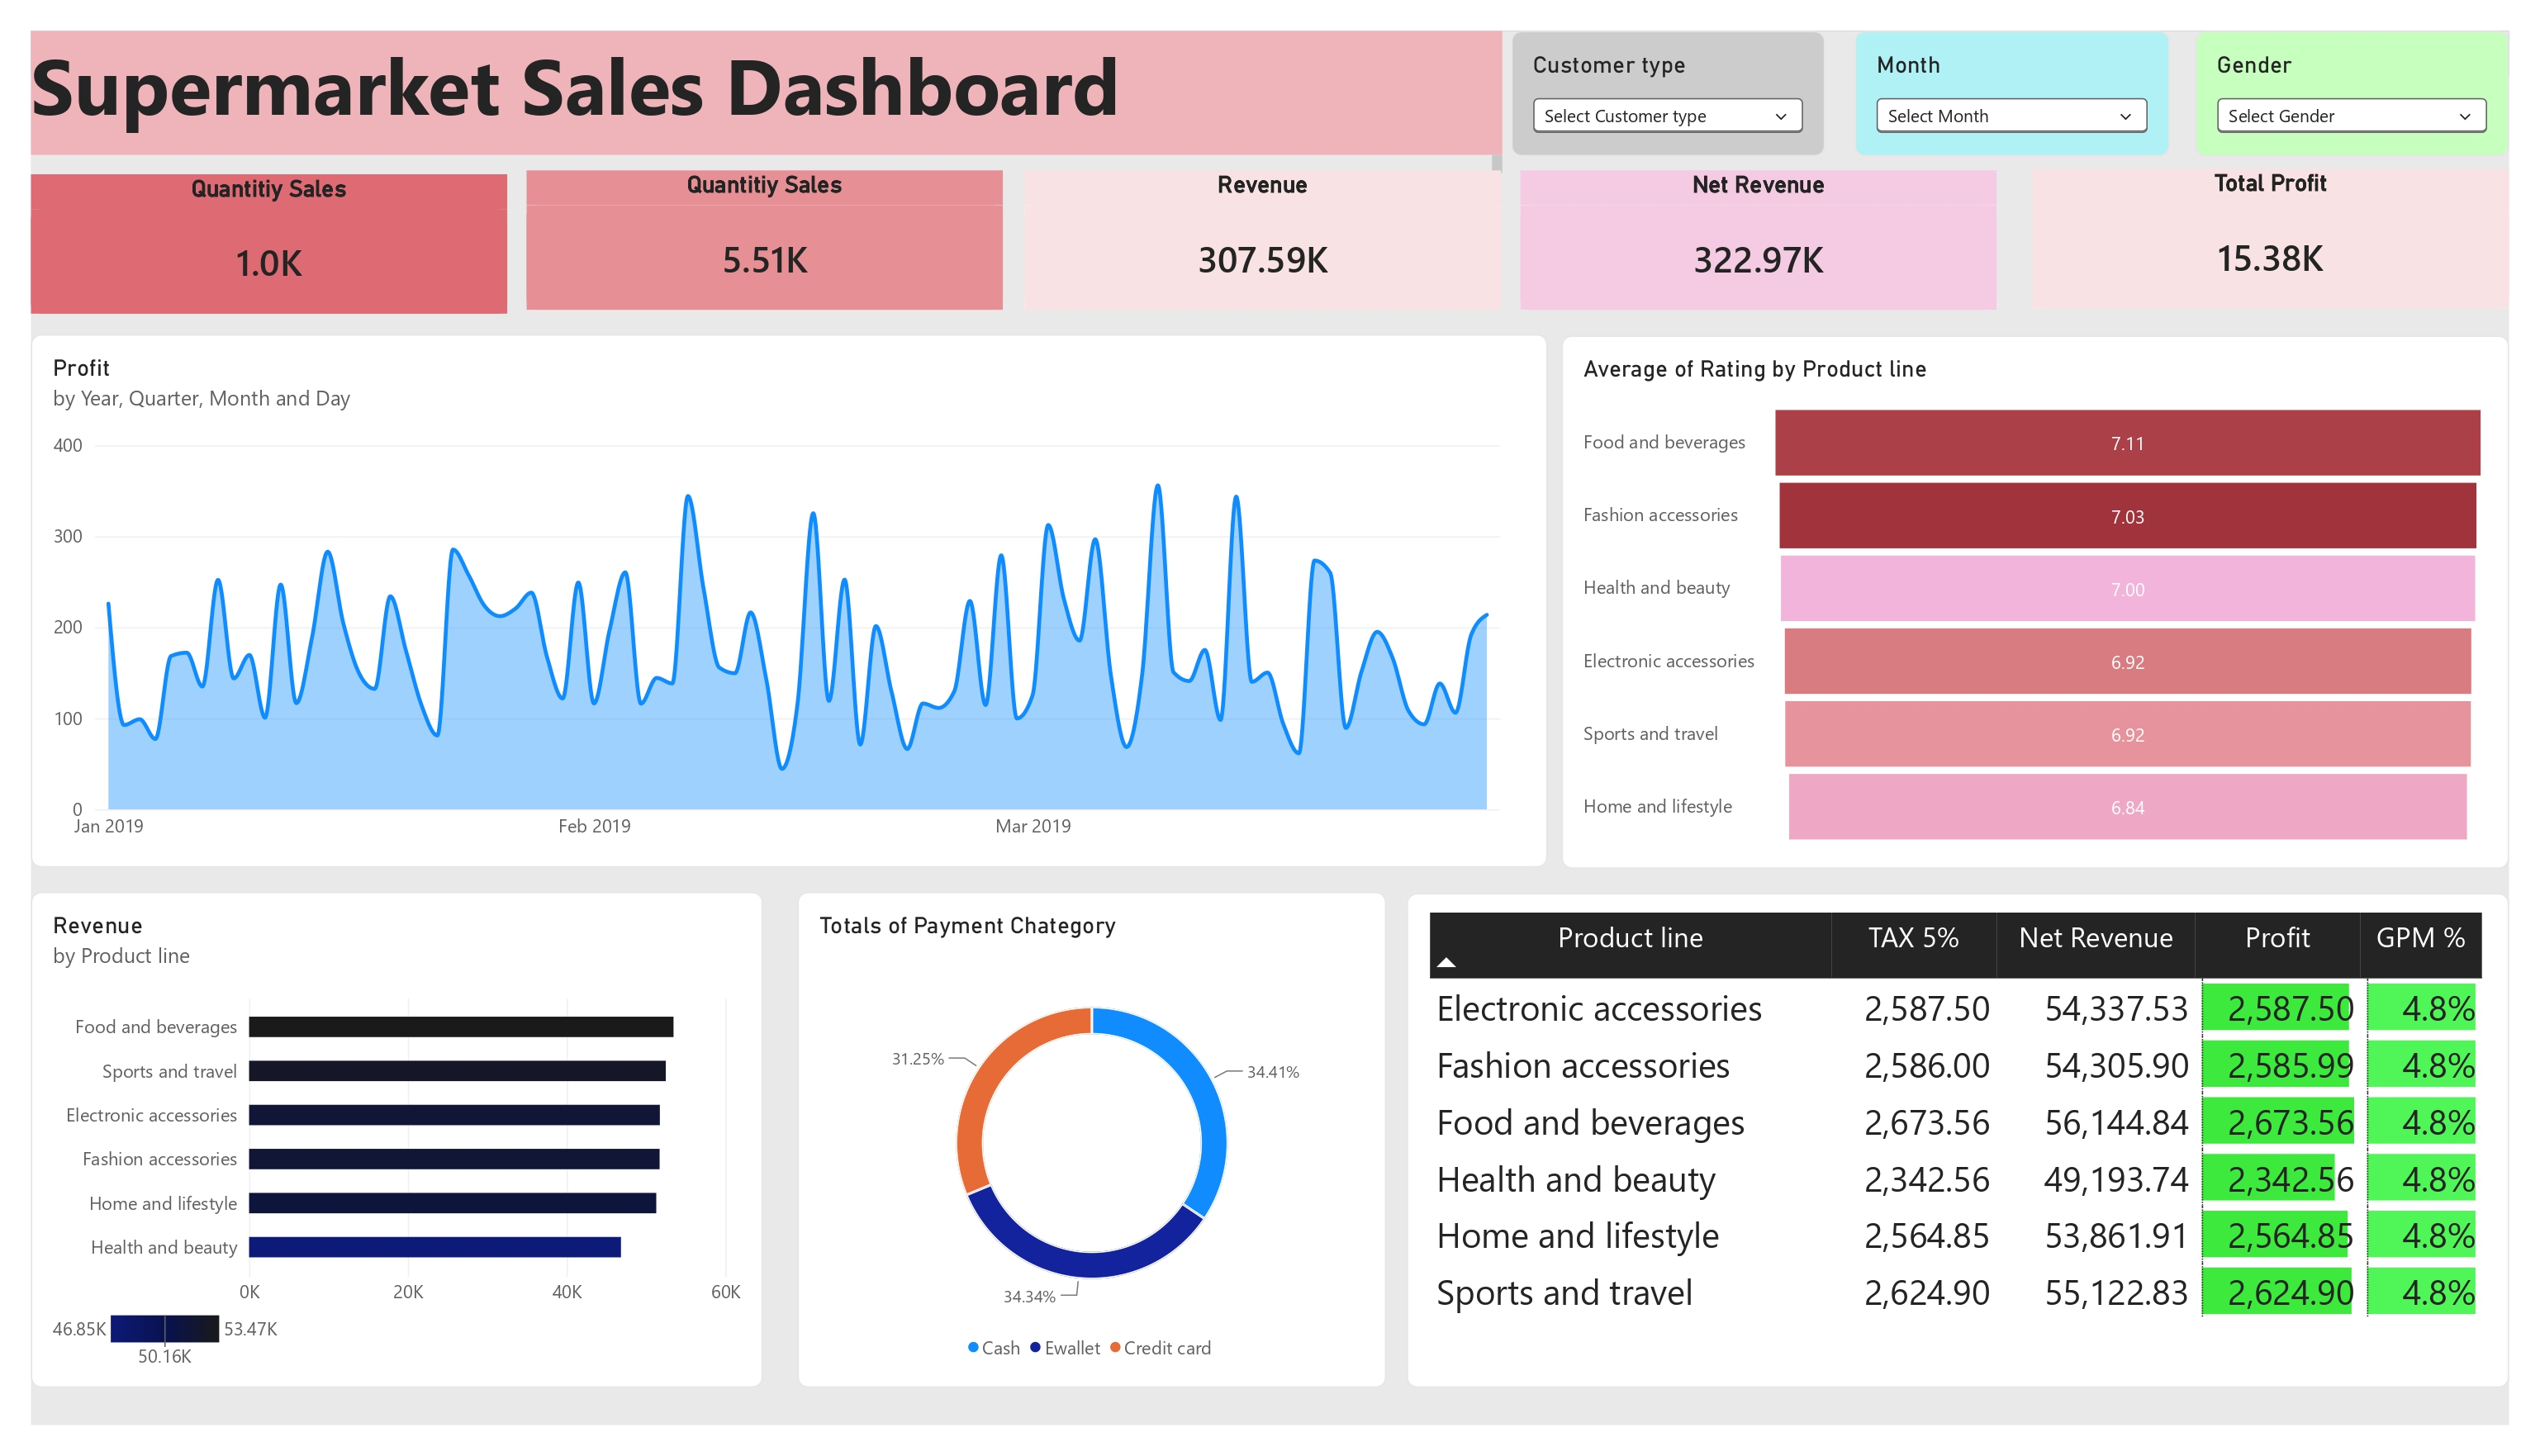

What the dashboard file says about the page in this screenshot:
{"tool":"powerbi","page":{"name":"Page 1","canvas":[1920,1080],"ordinal":0},"visuals":[{"type":"tableEx","fields":{"Values":["supermarket_sales.Product line","supermarket_sales.TAX 5%","supermarket_sales.Net Revenue","supermarket_sales.Profit","supermarket_sales.GPM %"]},"box":[1066.2,667.5,853.8,383.8],"z":0},{"type":"donutChart","title":"Totals of Payment Chategory","fields":{"Category":["supermarket_sales.Payment"],"Y":["Sum(supermarket_sales.Quantity)"]},"box":[594.3,667.1,455.7,384.3],"z":1000},{"type":"barChart","fields":{"Category":["supermarket_sales.Product line"],"Y":["supermarket_sales.Revenue"]},"box":[0,667.1,567.1,384.3],"z":2000},{"type":"areaChart","fields":{"Category":["supermarket_sales.Date.Variation.Date Hierarchy.Year","supermarket_sales.Date.Variation.Date Hierarchy.Quarter","supermarket_sales.Date.Variation.Date Hierarchy.Month","supermarket_sales.Date.Variation.Date Hierarchy.Day"],"Y":["supermarket_sales.Profit"]},"box":[0,235,1175,413.3],"z":3000},{"type":"funnel","fields":{"Category":["supermarket_sales.Product line"],"Y":["Avg(supermarket_sales.Rating)"]},"box":[1186.2,236.2,733.8,412.5],"z":4000},{"type":"listSlicer","fields":{"Values":["supermarket_sales.Gender"]},"box":[1676.6,0,243.5,96.7],"z":5000,"group":"g2"},{"type":"listSlicer","fields":{"Values":["supermarket_sales.Customer type"]},"box":[1146.7,0,243.5,96.7],"z":6000,"group":"g2"},{"type":"listSlicer","fields":{"Values":["supermarket_sales.Date.Variation.Date Hierarchy.Month"]},"box":[1413.1,0,243.5,96.7],"z":7000,"group":"g2"},{"type":"textbox","title":"Supermarket Sales Dashboard","box":[0,0,1140,110],"z":8000},{"type":"cardVisual","title":"Total Profit","fields":{"Data":["supermarket_sales.Profit"]},"box":[1550.8,106.7,369.2,109.6],"z":9000,"group":"g1"},{"type":"cardVisual","title":"Net Revenue","fields":{"Data":["supermarket_sales.Net Revenue"]},"box":[1154.1,107.3,369.2,109.6],"z":9001,"group":"g1"},{"type":"cardVisual","title":"Revenue","fields":{"Data":["supermarket_sales.Revenue"]},"box":[770.1,107.3,369.2,109.6],"z":9002,"group":"g1"},{"type":"cardVisual","title":"Quantitiy Sales","fields":{"Data":["Sum(supermarket_sales.Quantity)"]},"box":[384,107.3,369.2,109.6],"z":9003,"group":"g1"},{"type":"cardVisual","title":"Quantitiy Sales","fields":{"Data":["CountNonNull(supermarket_sales.Product line)"]},"box":[0,110.7,369.2,109.3],"z":9004,"group":"g1"},{"type":"group","id":"g1","title":"Group 1","box":[0,106.7,1920,113.3],"z":9005},{"type":"group","id":"g2","title":"Group 2","box":[1146.7,0,773.3,96.7],"z":9006}]}

Visuals, with their boxes on the page's 1920x1080 design canvas (x1, y1, x2, y2). These are canvas units, not pixel positions in the 2540x1456 screenshot, which may show the page scaled, cropped or inside an application window:
tableEx - supermarket_sales.Product line x supermarket_sales.TAX 5%: 1066/668/1920/1051
"Totals of Payment Chategory" donutChart: 594/667/1050/1051
barChart - supermarket_sales.Product line x supermarket_sales.Revenue: 0/667/567/1051
areaChart - supermarket_sales.Date.Variation.Date Hierarchy.Year x supermarket_sales.Date.Variation.Date Hierarchy.Quarter: 0/235/1175/648
funnel - supermarket_sales.Product line x Avg(supermarket_sales.Rating): 1186/236/1920/649
listSlicer - supermarket_sales.Gender: 1677/0/1920/97
listSlicer - supermarket_sales.Customer type: 1147/0/1390/97
listSlicer - supermarket_sales.Date.Variation.Date Hierarchy.Month: 1413/0/1657/97
"Supermarket Sales Dashboard" textbox: 0/0/1140/110
"Total Profit" cardVisual: 1551/107/1920/216
"Net Revenue" cardVisual: 1154/107/1523/217
"Revenue" cardVisual: 770/107/1139/217
"Quantitiy Sales" cardVisual: 384/107/753/217
"Quantitiy Sales" cardVisual: 0/111/369/220
"Group 1" group: 0/107/1920/220
"Group 2" group: 1147/0/1920/97
